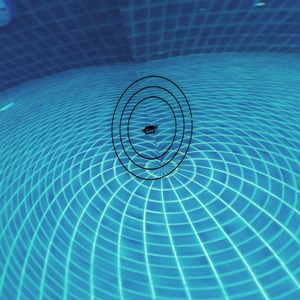circle: (100, 70, 193, 180)
submarine: (145, 123, 155, 132)
